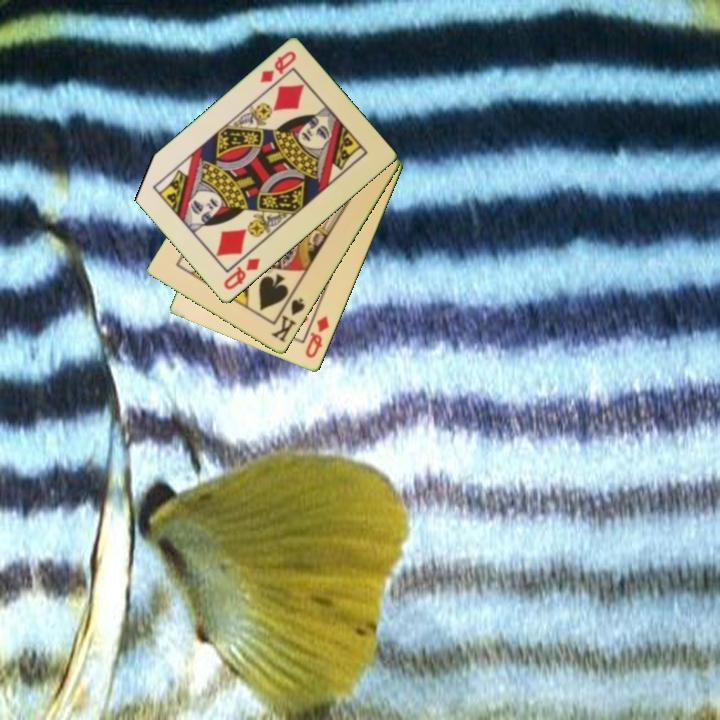Ks: (268, 291, 308, 346)
Qd: (220, 255, 263, 293), (256, 48, 299, 86), (302, 313, 332, 361)
